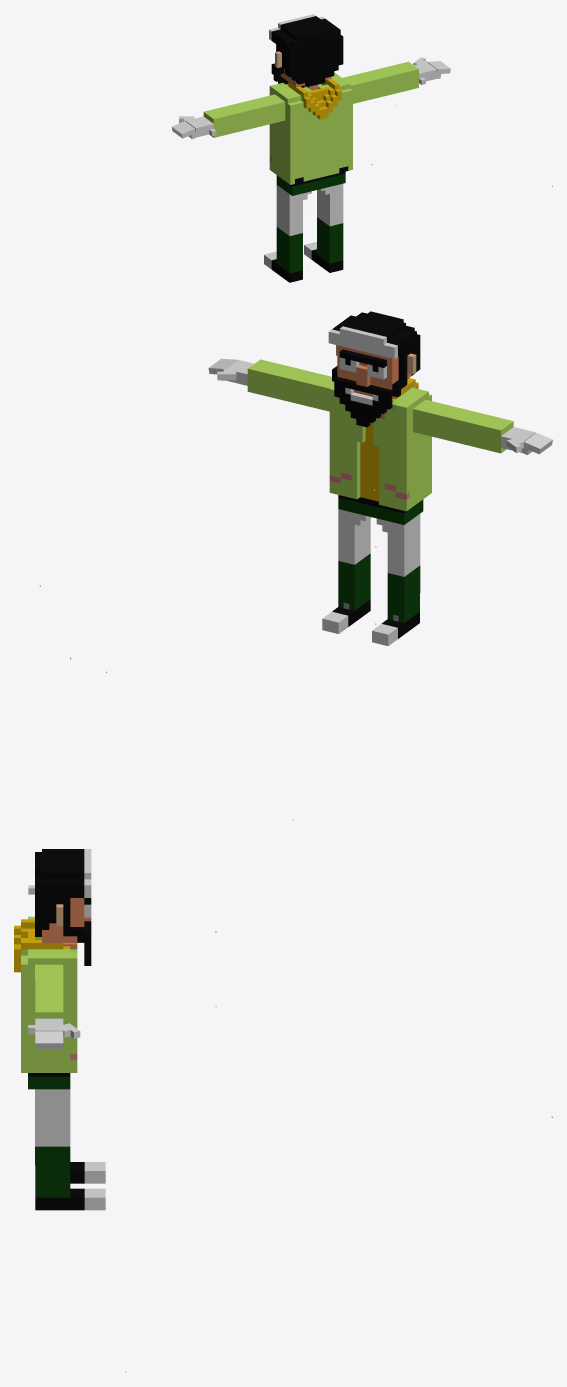
Rendered from Audience 4.fbx.
3 views of the same model, one above another, from view 1: azimuth 30°, elevation 25°; view 2: azimuth 150°, elevation 25°; view 3: azimuth 270°, elevation 25° (orthographic). The views are drawn at different scales.
Visible parts, largest first — view 1: Chunk__2_2_2__2, Chunk__2_1_2_, Chunk__2_1_2__1, Chunk__2_3_2__13, Chunk__2_2_2__13, Chunk__3_2_2__9, Chunk__2_0_2__15, Chunk__1_0_2__19, Chunk__1_2_2__3, Chunk__1_2_2__2, Chunk__2_2_2__8, Chunk__1_0_2__18 (+11 smaller); view 2: Chunk__2_1_2_, Chunk__2_2_2__2, Chunk__2_1_2__1, Chunk__2_2_1__13, Chunk__2_3_2__13, Chunk__3_2_2__9, Chunk__2_0_2__15, Chunk__1_0_2__19, Chunk__1_2_2__3, Chunk__2_2_2__13, Chunk__2_2_2__8, Chunk__2_0_2__14 (+8 smaller); view 3: Chunk__1_2_2__2, Chunk__1_1_2_, Chunk__1_2_2__13, Chunk__1_0_2__19, Chunk__1_3_2__13, Chunk__1_0_2__18, Chunk__2_3_2__13, Chunk__1_1_2__1, Chunk__1_0_2__20, Chunk__1_2_2__3, Chunk__1_1_2__18, Chunk__2_2_2__2.
Boxes of the visible parts, bbox=[...] form: Chunk__2_2_2__2: bbox=[269, 82, 337, 138]; Chunk__2_1_2_: bbox=[269, 151, 334, 195]; Chunk__2_1_2__1: bbox=[269, 124, 334, 166]; Chunk__2_3_2__13: bbox=[271, 17, 329, 58]; Chunk__2_2_2__13: bbox=[271, 44, 329, 90]; Chunk__3_2_2__9: bbox=[203, 103, 249, 137]; Chunk__2_0_2__15: bbox=[276, 227, 302, 273]; Chunk__1_0_2__19: bbox=[317, 217, 343, 263]; Chunk__1_2_2__3: bbox=[342, 70, 386, 103]; Chunk__1_2_2__2: bbox=[321, 72, 352, 127]; Chunk__2_2_2__8: bbox=[248, 94, 285, 126]; Chunk__1_0_2__18: bbox=[317, 190, 343, 226]; Chunk__2_1_2_: bbox=[351, 470, 431, 524]; Chunk__2_2_2__2: bbox=[351, 378, 431, 453]; Chunk__2_1_2__1: bbox=[351, 436, 431, 488]; Chunk__2_2_1__13: bbox=[345, 350, 392, 427]; Chunk__2_3_2__13: bbox=[348, 311, 420, 361]; Chunk__3_2_2__9: bbox=[457, 410, 513, 453]; Chunk__2_0_2__15: bbox=[387, 565, 420, 622]; Chunk__1_0_2__19: bbox=[338, 553, 370, 610]; Chunk__1_2_2__3: bbox=[284, 370, 334, 411]; Chunk__2_2_2__13: bbox=[348, 346, 420, 397]; Chunk__2_2_2__8: bbox=[413, 399, 458, 439]; Chunk__2_0_2__14: bbox=[387, 531, 420, 576]; Chunk__1_2_2__2: bbox=[14, 940, 77, 1009]; Chunk__1_1_2_: bbox=[21, 1047, 77, 1089]; Chunk__1_2_2__13: bbox=[35, 901, 84, 942]; Chunk__1_0_2__19: bbox=[35, 1146, 70, 1197]; Chunk__1_3_2__13: bbox=[35, 870, 84, 904]; Chunk__1_0_2__18: bbox=[35, 1108, 70, 1146]; Chunk__2_3_2__13: bbox=[35, 849, 84, 876]; Chunk__1_1_2__1: bbox=[21, 1009, 77, 1047]; Chunk__1_0_2__20: bbox=[35, 1188, 84, 1210]; Chunk__1_2_2__3: bbox=[35, 964, 63, 1006]; Chunk__1_1_2__18: bbox=[35, 1089, 70, 1108]; Chunk__2_2_2__2: bbox=[14, 916, 77, 972].
Bounding box in the file's own units: 905 × 530 × 766.
